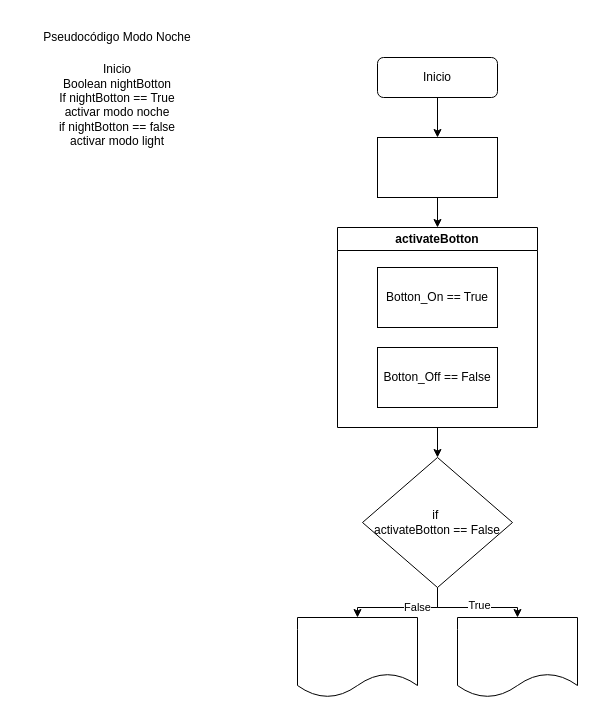
Some shapes in this 595 by 715 pixel diagram are drawn without their labels. Each missing label, with the box of its shape:
Boolean nightBotton = False: (376, 136, 498, 198)
Modo claro: (456, 616, 578, 698)
Modo oscuro: (296, 616, 418, 698)
